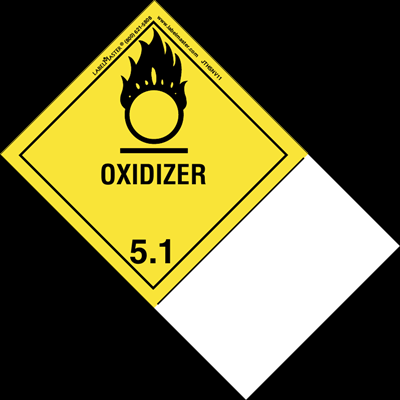Oxidizer: (9, 2, 307, 309)
